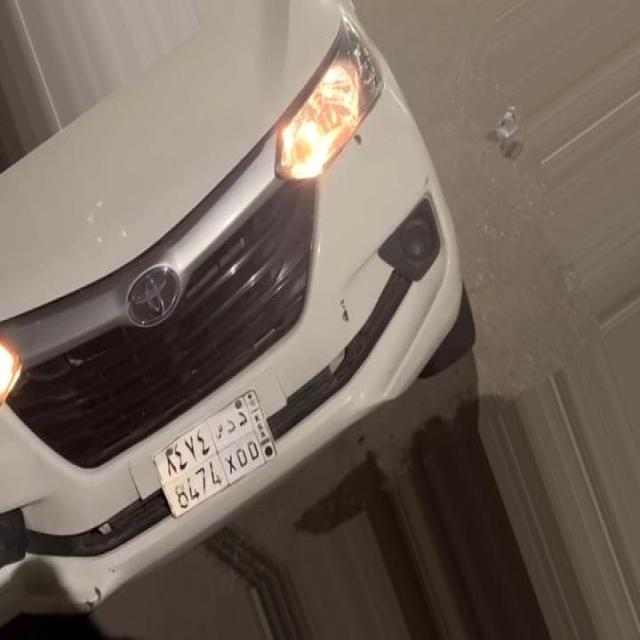Car-plate: (144, 356, 303, 543)
